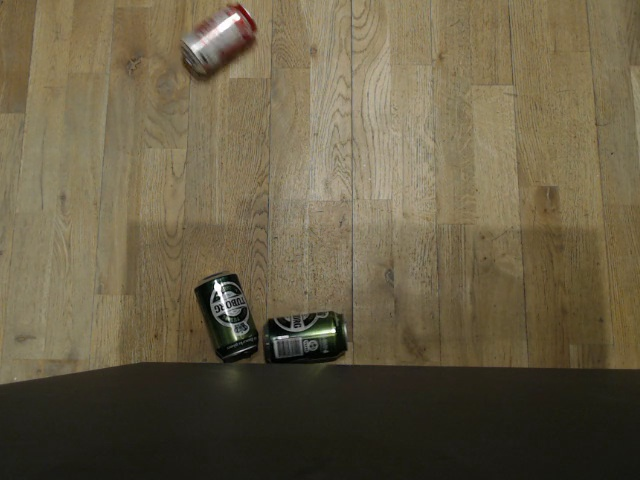beer: (196, 270, 259, 361), (263, 310, 347, 363)
cola: (179, 1, 257, 76)
